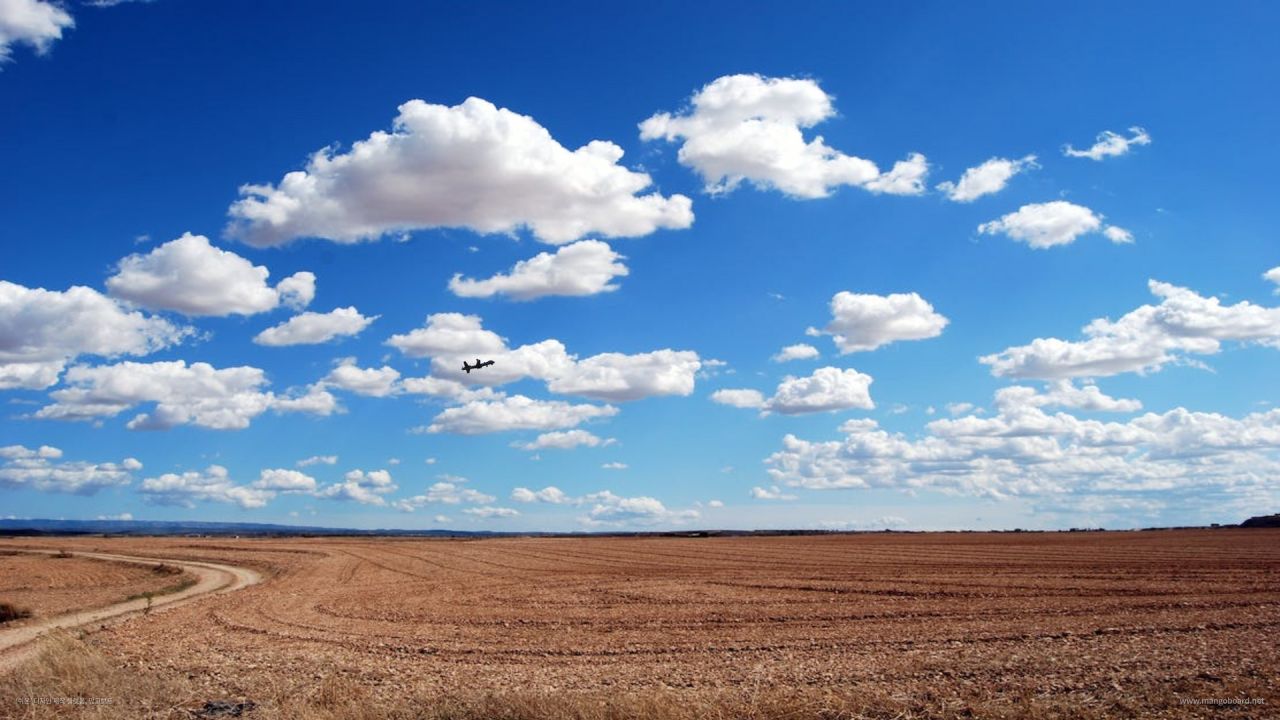military drone: (460, 358, 494, 373)
